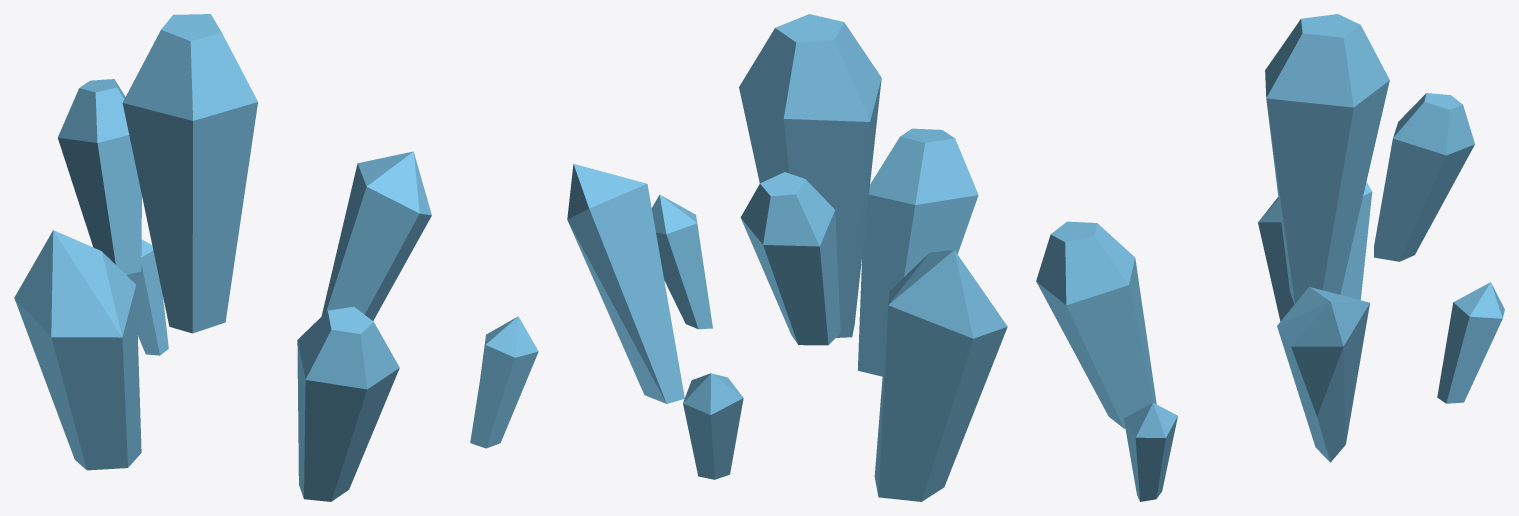
The model's file is DiamondOreC.fbx.
The picture shows the model from 3 angles, left to right: view 1: azimuth 30°, elevation 25°; view 2: azimuth 150°, elevation 25°; view 3: azimuth 270°, elevation 25°; orthographic projection. The views are drawn at different scales.
Parts seen in each view (by area): view 1: DiamondOreC; view 2: DiamondOreC; view 3: DiamondOreC.
Boxes of the visible parts, x1,y1,x2,y2 form: DiamondOreC: (14, 14, 538, 501); DiamondOreC: (567, 14, 1007, 501); DiamondOreC: (1036, 14, 1504, 501).
Bounding box in the file's own units: 45.62 × 43.71 × 47.09.
